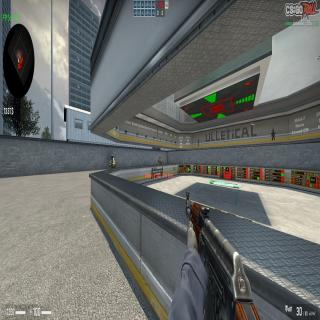CT-Body: (108, 154, 115, 170)
CT-Head: (111, 154, 113, 161)
T-Body: (158, 157, 162, 164)
T-Head: (159, 156, 161, 160)
